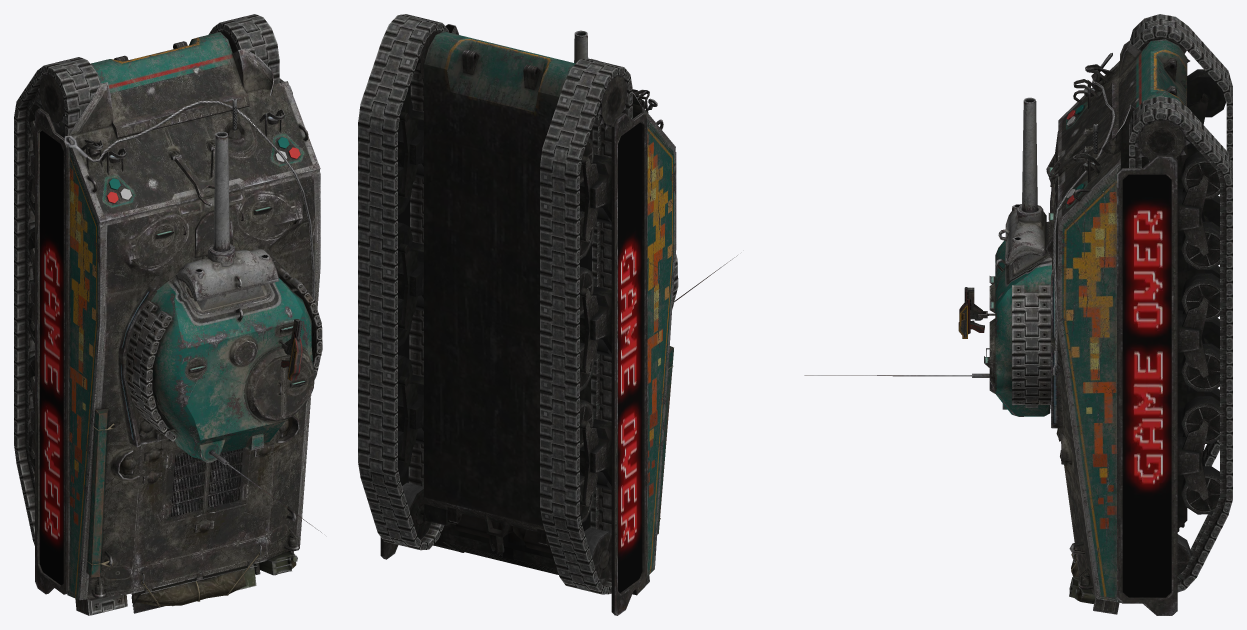
3 views of the same model, side by side, from view 1: azimuth 30°, elevation 25°; view 2: azimuth 150°, elevation 25°; view 3: azimuth 270°, elevation 25° (orthographic). The views are drawn at different scales.
Parts seen in each view (by area): view 1: hull, turret_01, hull_screen_txt, chassis_track_L, gun_01_mask, chassis_track_R, gun_01, chassis_wheel_L_01; view 2: hull, chassis_track_L, chassis_track_R, hull_screen_txt, chassis_wheel_L_11, chassis_wheel_L_01, chassis_wheel_R_11; view 3: hull, hull_screen_txt, turret_01, chassis_track_R, chassis_track_L, gun_01_mask, gun_01, chassis_wheel_R_01, chassis_wheel_R_05, chassis_wheel_R_08, chassis_wheel_L_02, chassis_wheel_R_03 (+3 smaller).
Part boxes in pixels (box(x1,y1,x2,y2)): hull: box(30, 32, 320, 615); turret_01: box(126, 268, 322, 532); hull_screen_txt: box(39, 130, 63, 585); chassis_track_L: box(14, 57, 100, 545); gun_01_mask: box(176, 243, 279, 301); chassis_track_R: box(208, 14, 279, 84); gun_01: box(213, 131, 229, 251); chassis_wheel_L_01: box(38, 73, 65, 127); hull: box(380, 24, 676, 615); chassis_track_L: box(540, 58, 632, 594); chassis_track_R: box(358, 14, 448, 550); hull_screen_txt: box(618, 122, 642, 592); chassis_wheel_L_11: box(584, 527, 611, 583); chassis_wheel_L_01: box(597, 75, 627, 130); chassis_wheel_R_11: box(402, 482, 431, 539); hull: box(1046, 39, 1209, 615); hull_screen_txt: box(1123, 174, 1171, 597); turret_01: box(804, 221, 1051, 416); chassis_track_R: box(1129, 96, 1232, 592); chassis_track_L: box(1130, 14, 1232, 466); gun_01_mask: box(998, 204, 1046, 265); gun_01: box(1022, 97, 1037, 212); chassis_wheel_R_01: box(1135, 118, 1189, 161); chassis_wheel_R_05: box(1181, 273, 1219, 321); chassis_wheel_R_08: box(1181, 396, 1219, 443); chassis_wheel_L_02: box(1187, 69, 1225, 117); chassis_wheel_R_03: box(1181, 221, 1219, 269).
Size of the model in its own units: 2.77 by 6.06 by 4.96.
Materials: 4 (4 with a texture image).
